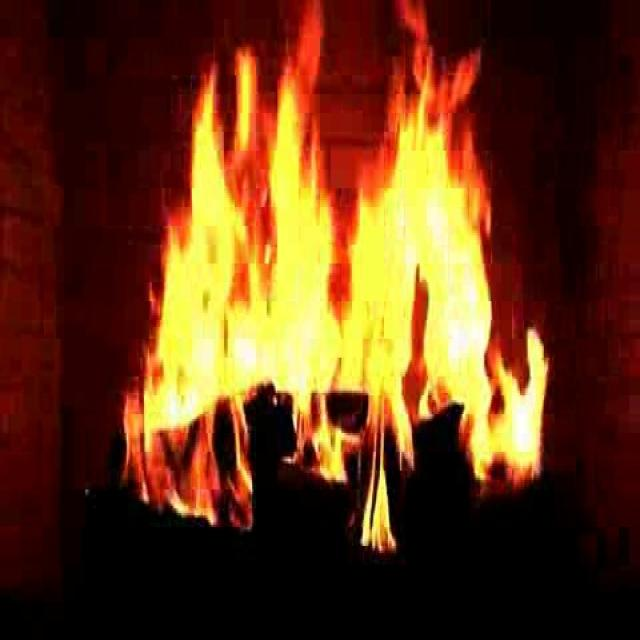fire: (156, 52, 552, 499)
